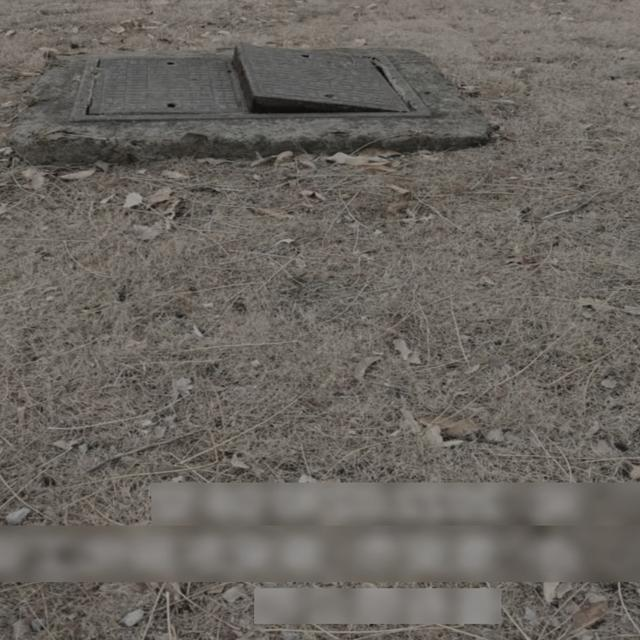uncovered: (0, 11, 463, 168)
